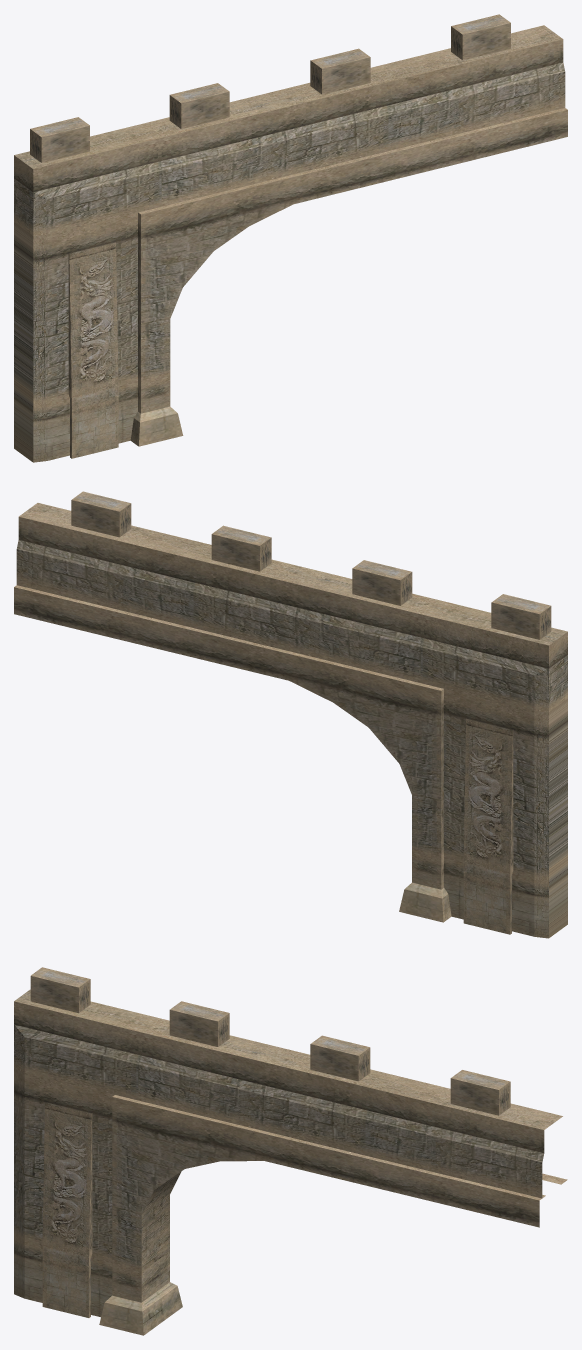
The model's file is desert-bigdam-01.glb.
The picture shows the model from 3 angles, top to bottom: view 1: azimuth 30°, elevation 25°; view 2: azimuth 150°, elevation 25°; view 3: azimuth 330°, elevation 25°; orthographic projection.
Visible parts, largest first — view 1: desert-bigdam-01, desert-bigdam-02; view 2: desert-bigdam-01, desert-bigdam-02; view 3: desert-bigdam-01, desert-bigdam-02.
Part boxes in pixels (bbox=[...]): desert-bigdam-01: bbox=[14, 14, 565, 462]; desert-bigdam-02: bbox=[68, 108, 567, 458]; desert-bigdam-01: bbox=[16, 491, 567, 938]; desert-bigdam-02: bbox=[14, 585, 513, 934]; desert-bigdam-01: bbox=[14, 967, 562, 1317]; desert-bigdam-02: bbox=[42, 1095, 567, 1335].
Size of the model in its own units: 11.31 by 6.51 by 1.45.
2 materials, 2 textured.
